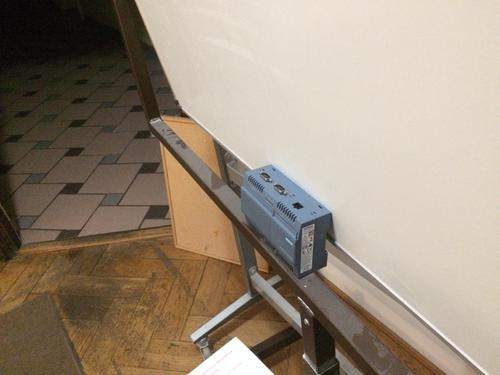iot2000: (240, 163, 333, 281)
